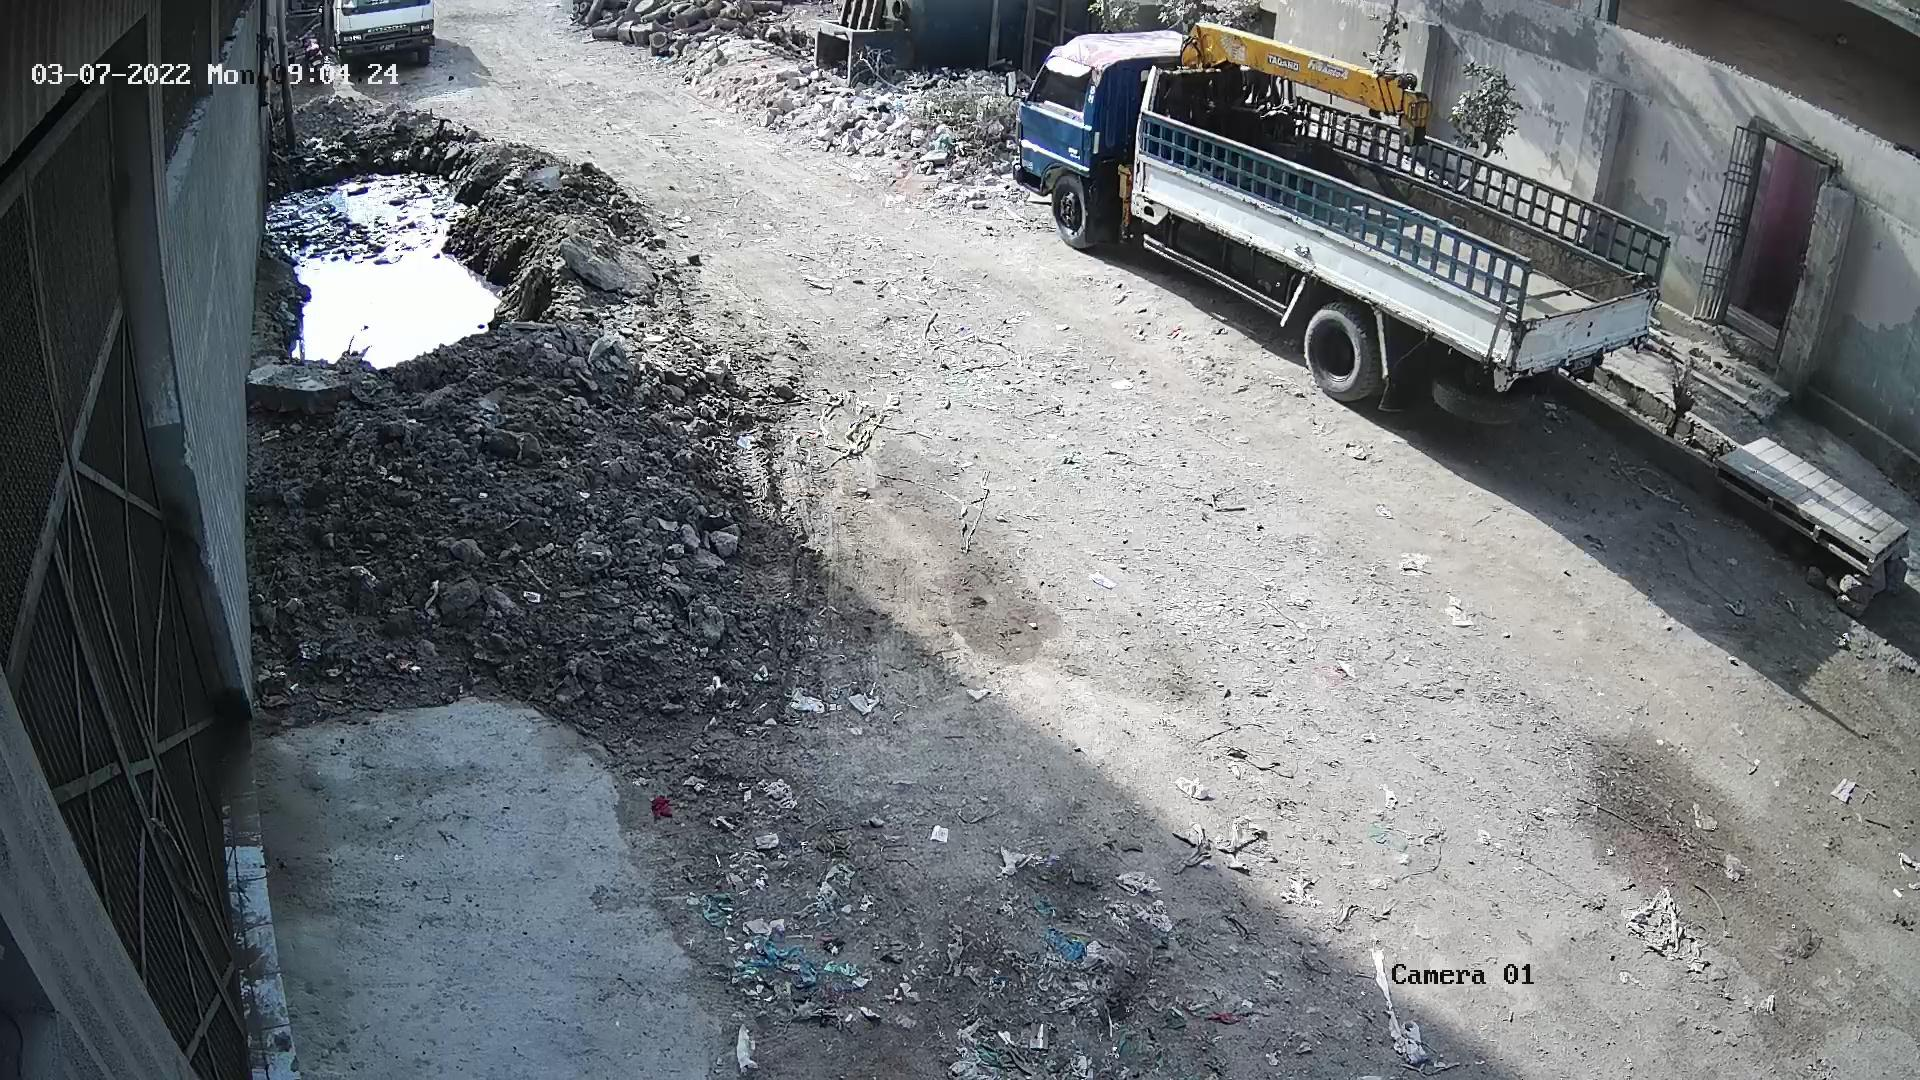bike: (299, 28, 324, 82)
other: (1006, 21, 1672, 427), (335, 0, 434, 65)
